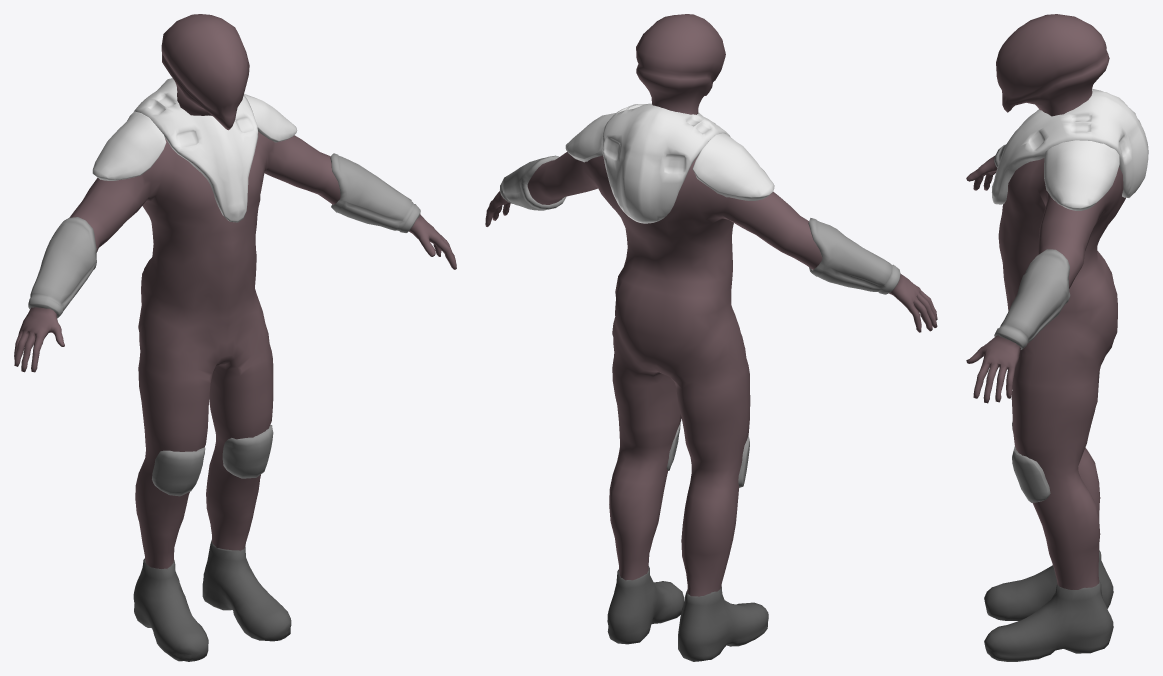
Rendered from Alien2.fbx.
3 views of the same model, side by side, from view 1: azimuth 30°, elevation 25°; view 2: azimuth 150°, elevation 25°; view 3: azimuth 270°, elevation 25° (orthographic). The views are drawn at different scales.
Parts seen in each view (by area): view 1: Alien_LP, Boots_LP, Gaunlet_LP, Chest_Armor_LP, Shoulder_Pad_LP, Knee_Pad_LP; view 2: Alien_LP, Chest_Armor_LP, Boots_LP, Gaunlet_LP, Shoulder_Pad_LP; view 3: Alien_LP, Boots_LP, Chest_Armor_LP, Gaunlet_LP, Shoulder_Pad_LP, Knee_Pad_LP.
Boxes of the visible parts, x1,y1,x2,y2 form: Alien_LP: (14, 14, 456, 568); Boots_LP: (133, 540, 291, 661); Gaunlet_LP: (28, 153, 420, 317); Chest_Armor_LP: (134, 78, 258, 222); Shoulder_Pad_LP: (92, 94, 297, 180); Knee_Pad_LP: (152, 425, 273, 496); Alien_LP: (485, 14, 937, 596); Chest_Armor_LP: (602, 103, 730, 223); Boots_LP: (607, 566, 768, 661); Gaunlet_LP: (500, 155, 900, 294); Shoulder_Pad_LP: (565, 112, 774, 200); Alien_LP: (966, 14, 1125, 589); Boots_LP: (984, 550, 1113, 661); Chest_Armor_LP: (992, 88, 1148, 204); Gaunlet_LP: (994, 144, 1070, 349); Shoulder_Pad_LP: (1044, 140, 1119, 210); Knee_Pad_LP: (1012, 422, 1050, 502).
Bounding box in the file's own units: 137 × 183 × 48.96.
